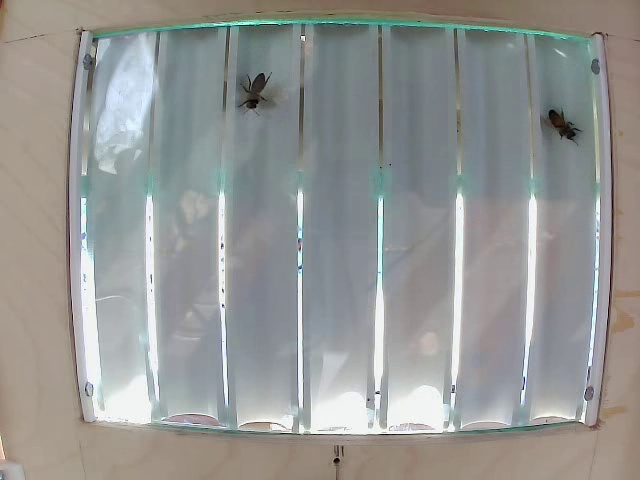bee: (238, 71, 277, 121), (544, 108, 577, 150)
